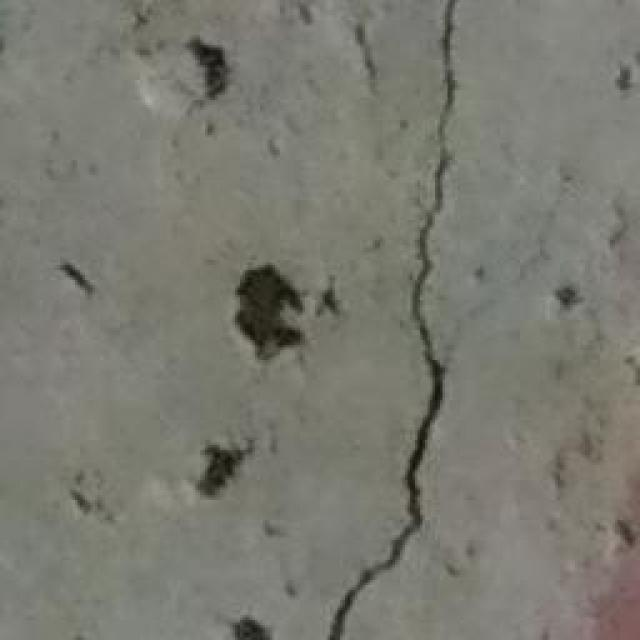Longitudinal: (324, 0, 490, 640)
Rippled: (53, 0, 296, 640)
